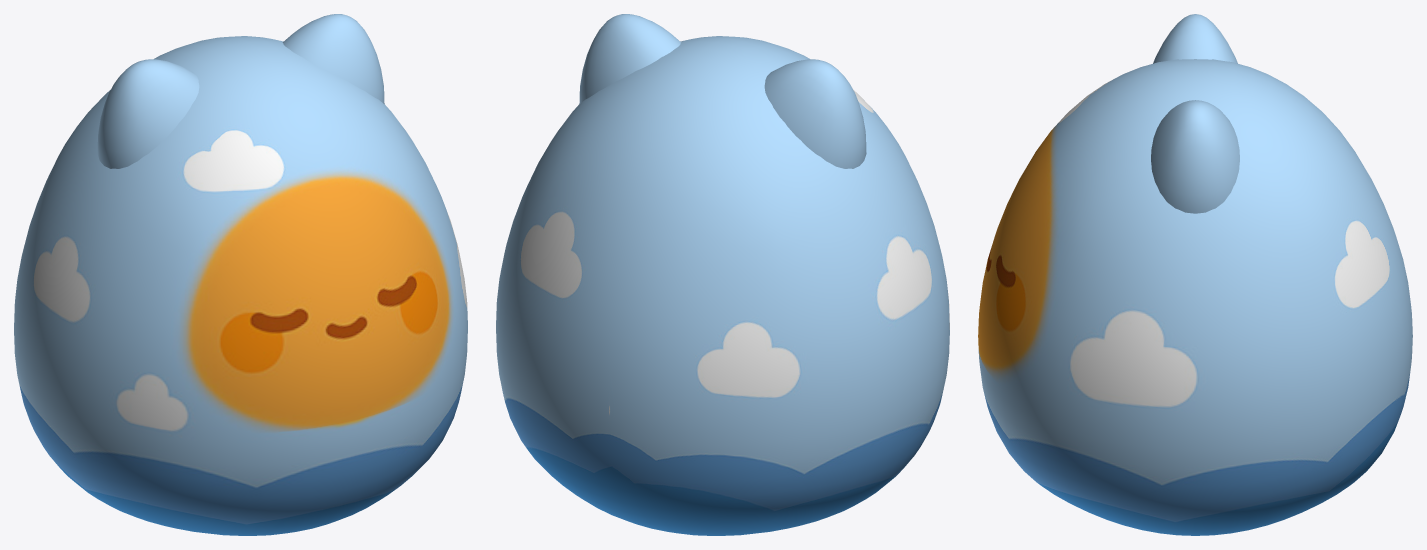
The picture shows the model from 3 angles, left to right: view 1: azimuth 30°, elevation 25°; view 2: azimuth 150°, elevation 25°; view 3: azimuth 270°, elevation 25°; orthographic projection. The views are drawn at different scales.
Visible parts, largest first — view 1: Roundcube.003, Roundcube.002; view 2: Roundcube.003, Roundcube.002; view 3: Roundcube.003, Roundcube.002.
Boxes of the visible parts, <box> form: Roundcube.003: <box>14,36,467,535</box>; Roundcube.002: <box>97,14,384,168</box>; Roundcube.003: <box>496,36,949,535</box>; Roundcube.002: <box>579,14,866,168</box>; Roundcube.003: <box>978,59,1412,535</box>; Roundcube.002: <box>1151,14,1239,213</box>.
Size of the model in its own units: 0.4789 by 0.5438 by 0.4789.
1 material, 1 textured.
